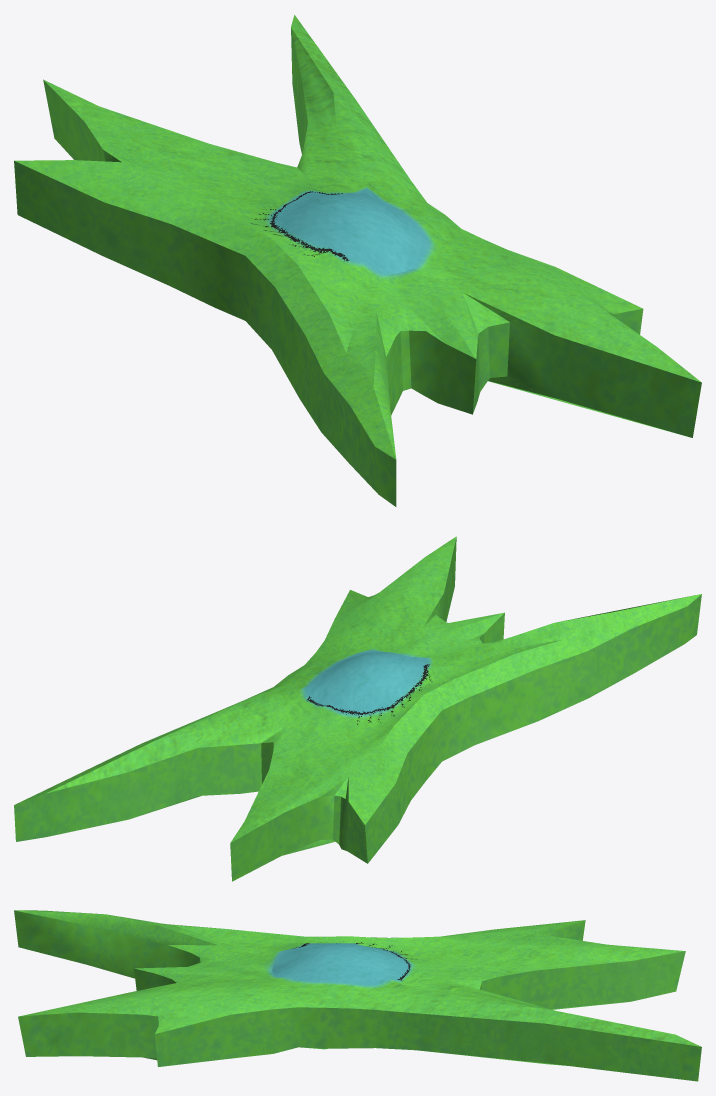
File: fibroblast.fbx
3 renders of one model, top to bottom at view 1: azimuth 30°, elevation 25°; view 2: azimuth 150°, elevation 25°; view 3: azimuth 270°, elevation 25°, orthographic. The views are drawn at different scales.
Visible parts, largest first — view 1: Cube; view 2: Cube; view 3: Cube.
Part boxes in pixels (x1,y1,x2,y2): Cube: [14, 15, 701, 506]; Cube: [14, 536, 701, 881]; Cube: [14, 910, 701, 1081].
Bounding box in the file's own units: 453 × 123 × 988.
1 material, 1 textured.
